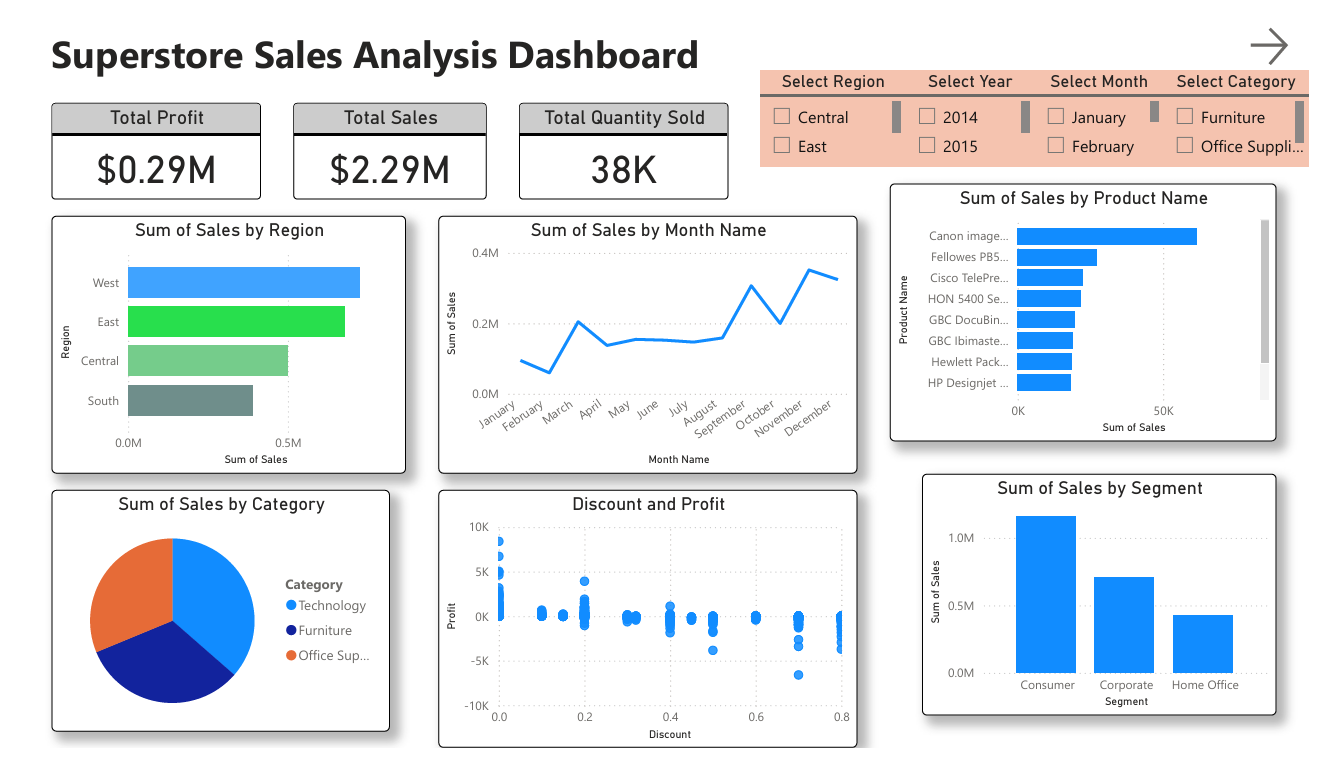

Layout of this report page (visuals, bound fields, positions):
{"tool":"powerbi","page":{"name":"Dashboard","canvas":[1280,720],"ordinal":0},"visuals":[{"type":"card","title":"Total Profit","fields":{"Values":["superstore_cleaned.total_profit"]},"box":[32,80,208,96],"z":0},{"type":"card","title":"Total Sales","fields":{"Values":["Sum(superstore_cleaned.Sales)"]},"box":[272,80,192,96],"z":1000},{"type":"card","title":"Total Quantity Sold","fields":{"Values":["Sum(superstore_cleaned.Quantity)"]},"box":[496,80,208,96],"z":2000},{"type":"barChart","fields":{"Y":["Sum(superstore_cleaned.Sales)"],"Category":["superstore_cleaned.Region"]},"box":[32,192,352,256],"z":3000},{"type":"pieChart","fields":{"Y":["Sum(superstore_cleaned.Sales)"],"Category":["superstore_cleaned.Category"]},"box":[32,464,336,240],"z":4000},{"type":"lineChart","fields":{"Y":["Sum(superstore_cleaned.Sales)"],"Category":["superstore_cleaned.Month Name"]},"box":[416,192,416,256],"z":5000},{"type":"clusteredBarChart","fields":{"Category":["superstore_cleaned.Product Name"],"Y":["Sum(superstore_cleaned.Sales)"]},"box":[864,160,384,256],"z":6000},{"type":"scatterChart","fields":{"X":["superstore_cleaned.Discount"],"Y":["superstore_cleaned.Profit"]},"box":[416,464,416,256],"z":7000},{"type":"columnChart","fields":{"Category":["superstore_cleaned.Segment"],"Y":["Sum(superstore_cleaned.Sales)"]},"box":[896,448,352,240],"z":8000},{"type":"slicer","title":"Select Region","fields":{"Values":["superstore_cleaned.Region"]},"box":[736,48,144,96],"z":9000},{"type":"slicer","title":"Select Year","fields":{"Values":["superstore_cleaned.Year"]},"box":[880,48,128,96],"z":10000},{"type":"slicer","title":"Select Month","fields":{"Values":["superstore_cleaned.Month Name"]},"box":[1008,48,128,96],"z":11000},{"type":"textbox","box":[26.6,0,702.1,64.3],"z":12000},{"type":"slicer","title":"Select Category","fields":{"Values":["superstore_cleaned.Category"]},"box":[1136,48,144,96],"z":13000},{"type":"actionButton","box":[1216,0,64,48],"z":14000}]}

Visuals, with their boxes on the page's 1280x720 design canvas (x1, y1, x2, y2). These are canvas units, not pixel positions in the 1320x766 screenshot, which may show the page scaled, cropped or inside an application window:
"Total Profit" card: [left=32, top=80, right=240, bottom=176]
"Total Sales" card: [left=272, top=80, right=464, bottom=176]
"Total Quantity Sold" card: [left=496, top=80, right=704, bottom=176]
barChart - Sum(superstore_cleaned.Sales) x superstore_cleaned.Region: [left=32, top=192, right=384, bottom=448]
pieChart - Sum(superstore_cleaned.Sales) x superstore_cleaned.Category: [left=32, top=464, right=368, bottom=704]
lineChart - Sum(superstore_cleaned.Sales) x superstore_cleaned.Month Name: [left=416, top=192, right=832, bottom=448]
clusteredBarChart - superstore_cleaned.Product Name x Sum(superstore_cleaned.Sales): [left=864, top=160, right=1248, bottom=416]
scatterChart - superstore_cleaned.Discount x superstore_cleaned.Profit: [left=416, top=464, right=832, bottom=720]
columnChart - superstore_cleaned.Segment x Sum(superstore_cleaned.Sales): [left=896, top=448, right=1248, bottom=688]
"Select Region" slicer: [left=736, top=48, right=880, bottom=144]
"Select Year" slicer: [left=880, top=48, right=1008, bottom=144]
"Select Month" slicer: [left=1008, top=48, right=1136, bottom=144]
textbox: [left=27, top=0, right=729, bottom=64]
"Select Category" slicer: [left=1136, top=48, right=1280, bottom=144]
actionButton: [left=1216, top=0, right=1280, bottom=48]
